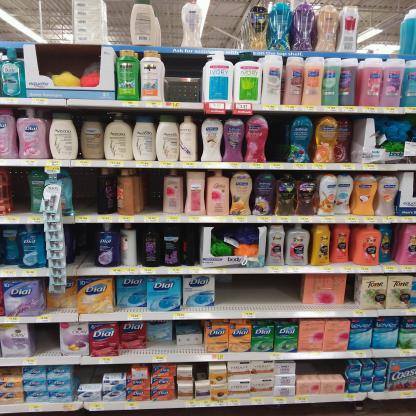Void: (219, 278, 296, 306), (165, 54, 201, 102), (69, 224, 96, 266), (9, 167, 31, 216), (75, 170, 98, 211), (43, 44, 80, 68), (32, 325, 58, 356), (267, 117, 286, 157), (145, 168, 160, 212), (298, 361, 340, 374), (83, 366, 102, 383), (196, 366, 206, 378)
